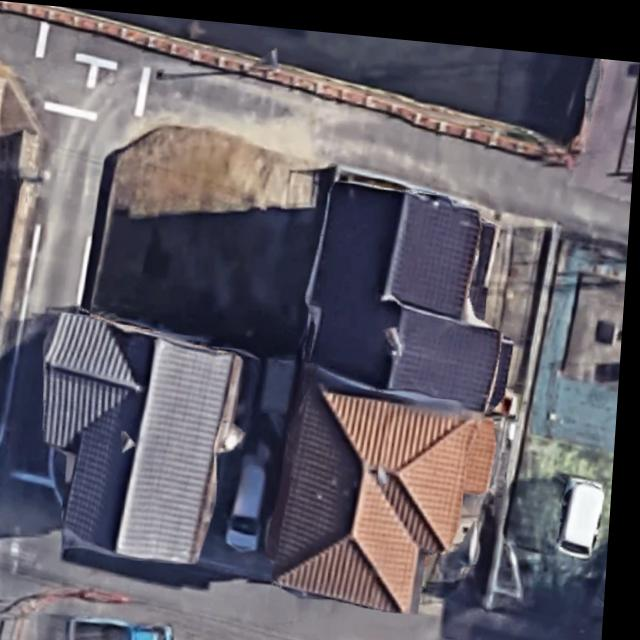Batiment: (274, 378, 500, 603), (50, 309, 249, 558), (311, 173, 515, 401)
